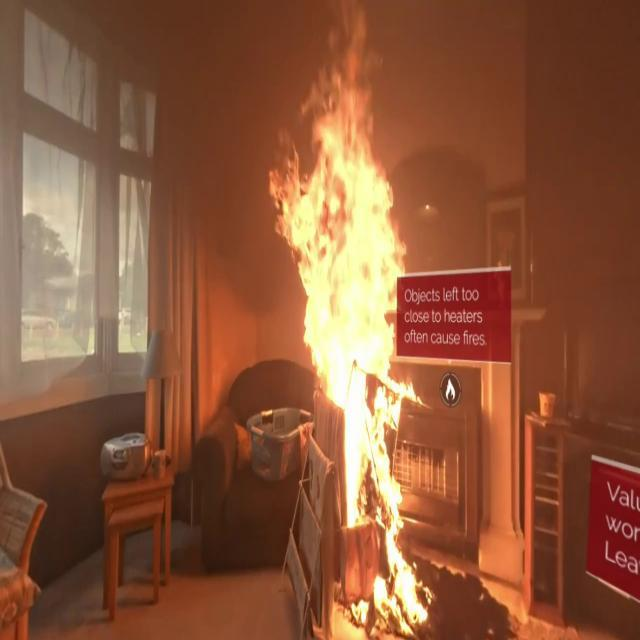Fire: (274, 46, 428, 629)
